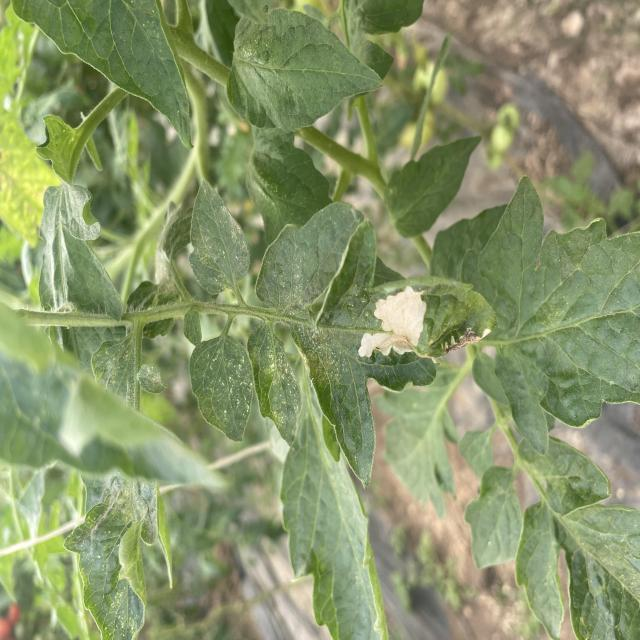Tuta absoluta: (356, 277, 436, 374)
